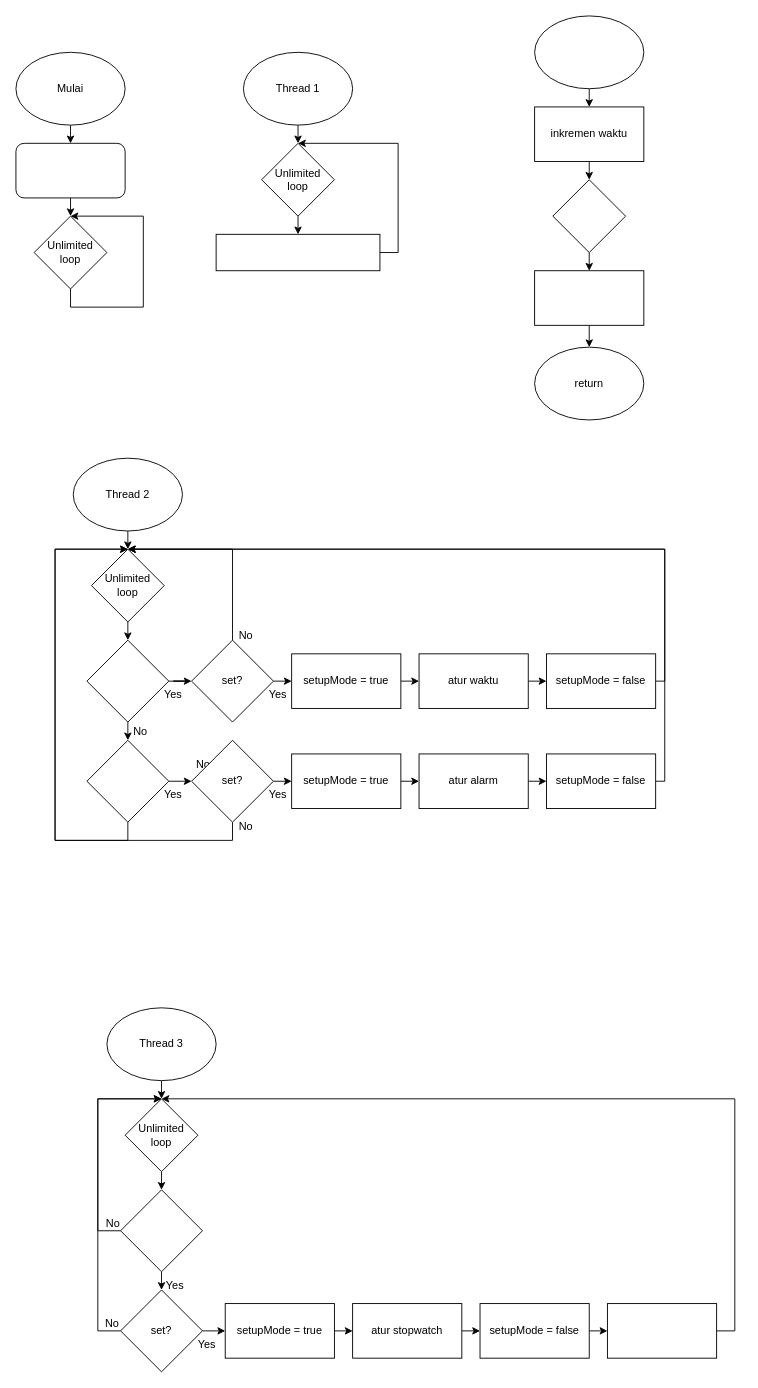
The diagram is 758 pixels wide and 1388 high, and some of its shapes have lost their labels. Each missing label, with the box of its shape:
Atur display berdasarkan displayMode dan setupMode: (215, 233, 380, 271)
displayMode = 1?: (86, 639, 169, 722)
displayMode = 2?: (86, 739, 169, 822)
displayMode = 3?: (120, 1189, 202, 1272)
Inisialisasi GPIO, Interrupt, Register, Thread: (15, 142, 125, 198)
ISR (Output Compare): (534, 15, 644, 89)
jalankan stopwatch: (607, 1303, 717, 1358)
nyalakan alarm: (534, 270, 644, 325)
waktu = waktu alarm?: (552, 179, 626, 253)
